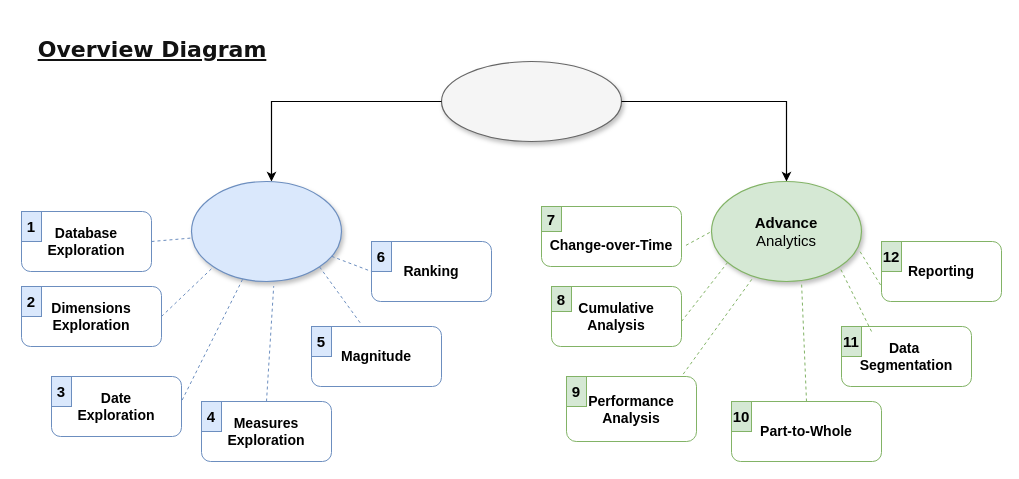
The diagram is 1019 pixels wide and 479 high, and some of its shapes have lost their labels. Each missing label, with the centre of its shape:
Data Analytics: (532,102)
Exploratory Data Analysis (EDA): (267,232)
